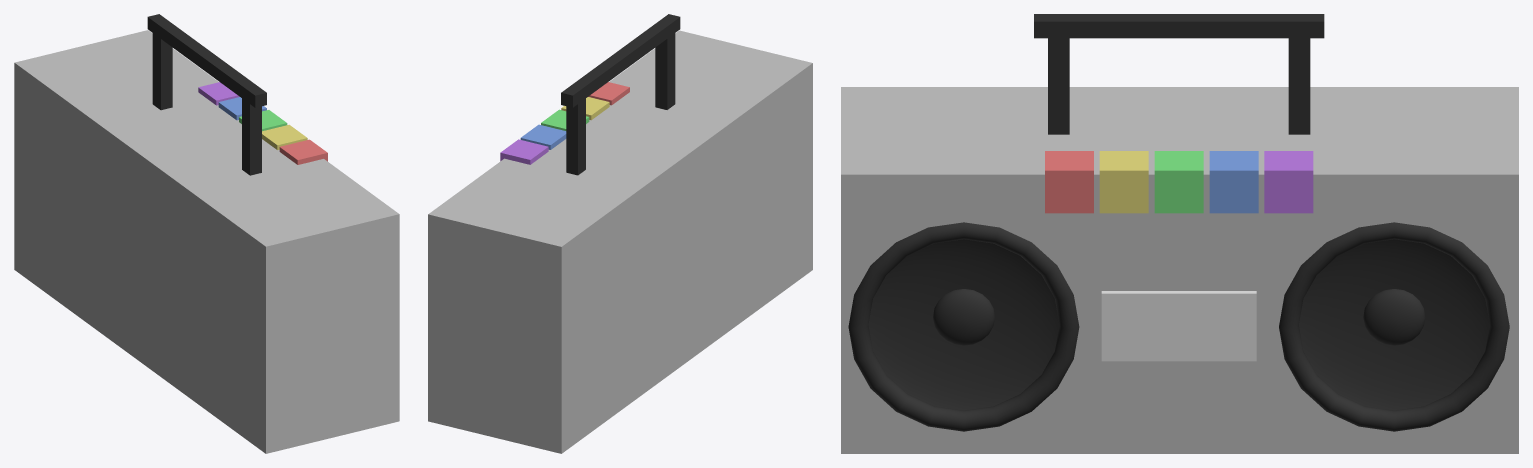
The model's file is Boombox.fbx.
3 views of the same model, side by side, from view 1: azimuth 30°, elevation 25°; view 2: azimuth 150°, elevation 25°; view 3: azimuth 270°, elevation 25° (orthographic). The views are drawn at different scales.
Parts seen in each view (by area): view 1: pCube3, pCube7, pCube8, pCube5, pCube9, pCube6; view 2: pCube3, pCube7, pCube9, pCube6, pCube8, pCube5, pCube4; view 3: pCube3, pTorus2, pTorus1, pCube7, pCube10, pCube4, pCube5, pCube6, pCube9, pCube8, pSphere4, pSphere3.
Part boxes in pixels (<box>): pCube3: <box>14,30,399,453</box>; pCube7: <box>147,14,266,175</box>; pCube8: <box>279,139,327,164</box>; pCube5: <box>262,124,307,150</box>; pCube9: <box>198,82,239,105</box>; pCube6: <box>218,97,266,120</box>; pCube3: <box>428,30,812,453</box>; pCube7: <box>561,14,680,175</box>; pCube9: <box>500,139,548,164</box>; pCube6: <box>520,124,566,149</box>; pCube8: <box>588,82,629,105</box>; pCube5: <box>561,97,609,120</box>; pCube4: <box>541,109,589,130</box>; pCube3: <box>841,87,1518,453</box>; pTorus2: <box>1279,222,1509,431</box>; pTorus1: <box>848,222,1079,431</box>; pCube7: <box>1034,14,1324,134</box>; pCube10: <box>1101,291,1256,361</box>; pCube4: <box>1154,151,1203,213</box>; pCube5: <box>1099,151,1148,213</box>; pCube6: <box>1209,151,1258,213</box>; pCube9: <box>1264,151,1313,213</box>; pCube8: <box>1045,151,1093,213</box>; pSphere4: <box>1363,289,1425,345</box>; pSphere3: <box>933,289,994,345</box>.
Size of the model in its own units: 1.03 by 2.08 by 3.26.
